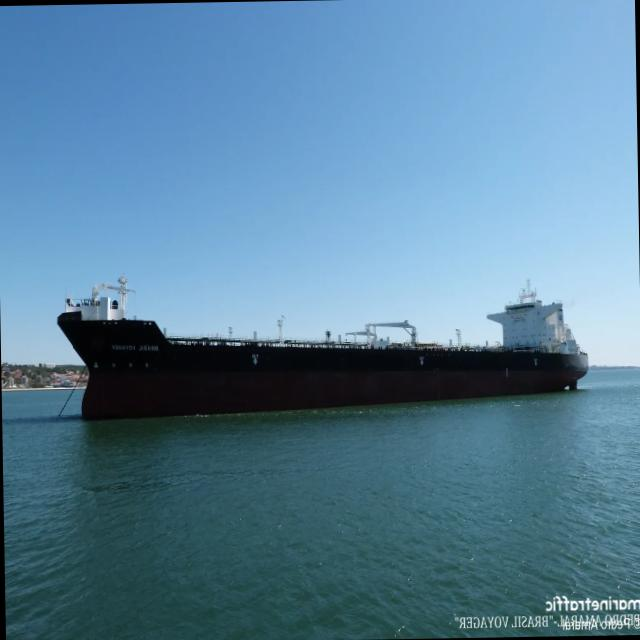Tanker: (57, 286, 588, 419)
